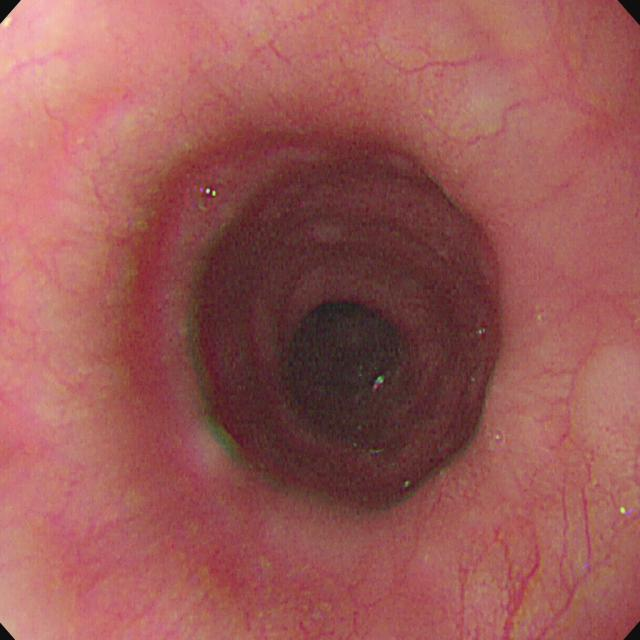E: (290, 296, 404, 419)
T: (186, 173, 228, 215)
